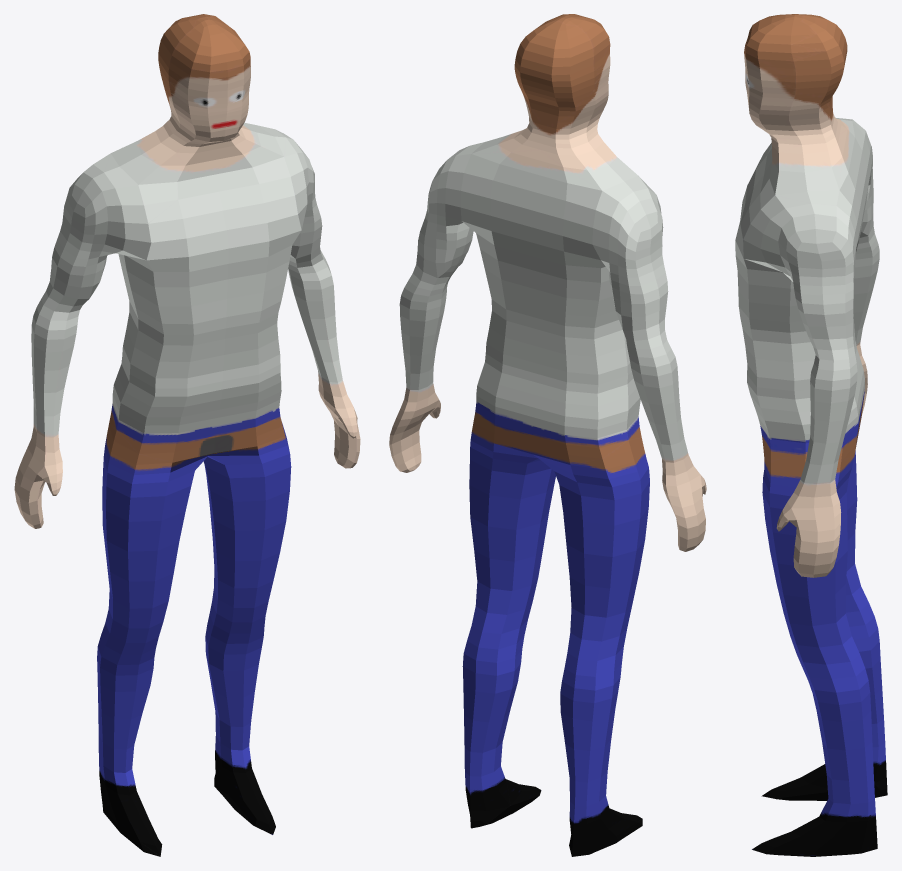
File: PersonNormal1.fbx
The picture shows the model from 3 angles, left to right: view 1: azimuth 30°, elevation 25°; view 2: azimuth 150°, elevation 25°; view 3: azimuth 270°, elevation 25°; orthographic projection.
Visible parts, largest first — view 1: node_id4; view 2: node_id4; view 3: node_id4.
Part boxes in pixels (x1=…): node_id4: x1=14, y1=14, x2=360, y2=856; node_id4: x1=389, y1=14, x2=706, y2=856; node_id4: x1=735, y1=14, x2=887, y2=856.
Bounding box in the file's own units: 0.2121 × 0.5127 × 0.0869.
1 material, 1 textured.
